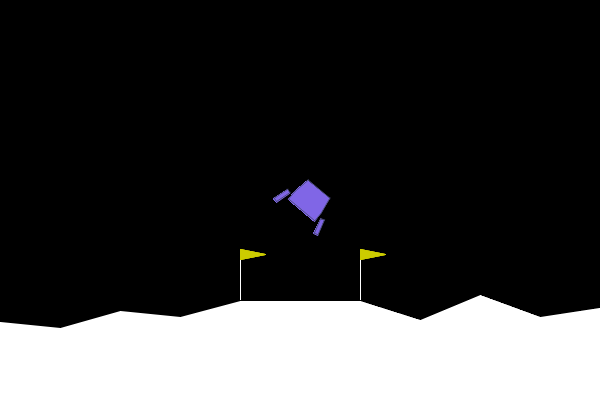lander: (271, 169, 343, 238)
